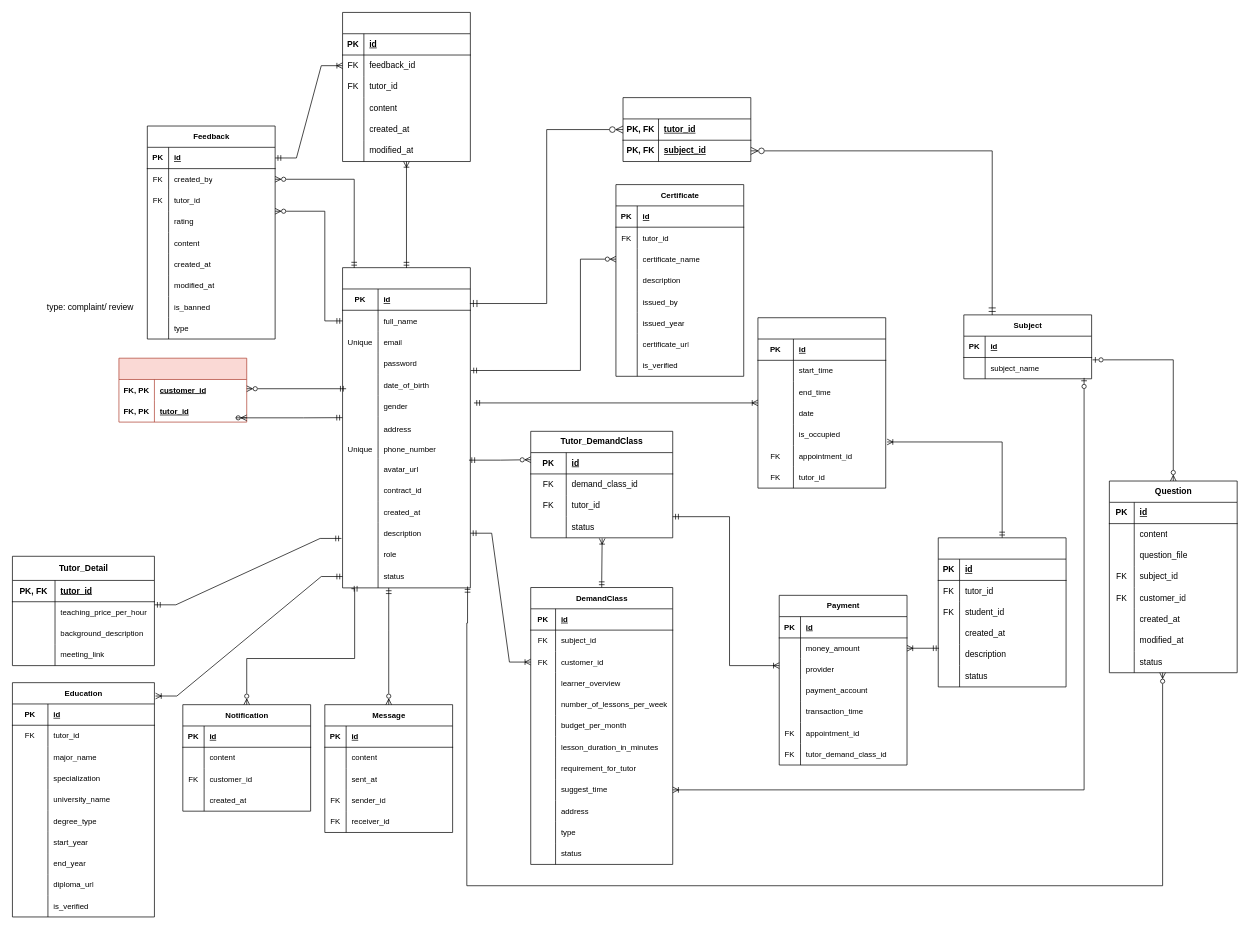
Some shapes in this 1250 by 939 pixel diagram are drawn without their labels. Here are the shapes that lost their labels. From the top down, the box of each, then its label:
(342, 12, 470, 162): Replies
(622, 97, 751, 162): Tutor_Subject
(118, 357, 247, 422): Favourite
(757, 317, 886, 488): Timeslot
(342, 267, 470, 588): Account
(938, 537, 1066, 687): Appointment
